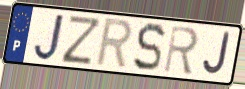J: (32, 12, 67, 62), (201, 30, 232, 78)
R: (93, 16, 134, 72), (162, 24, 200, 77)
S: (132, 21, 167, 74)
Z: (60, 13, 104, 67)
